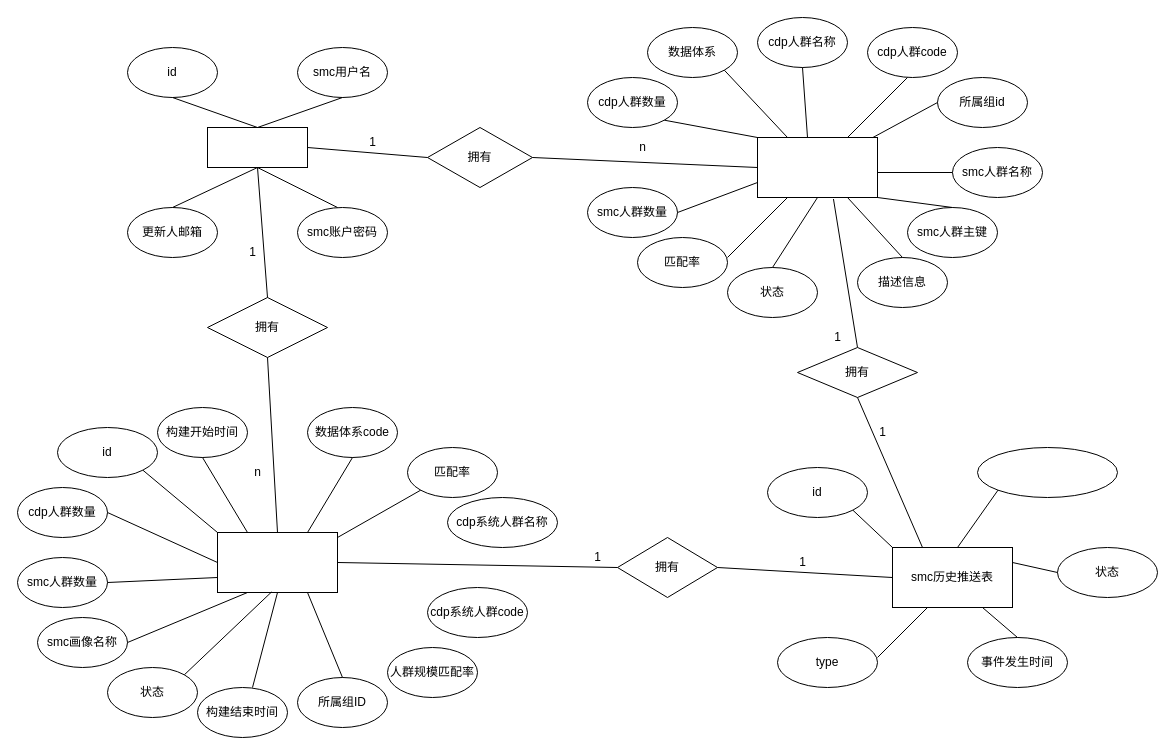
Image size: 1175x755. Some labels were removed from this diagram. The centre of each missing label's shape, as x and y in pixels:
smc人群: (x=817, y=167)
smc画像: (x=277, y=562)
人群或者画像推送的ID: (x=1047, y=472)
用户: (x=257, y=147)
